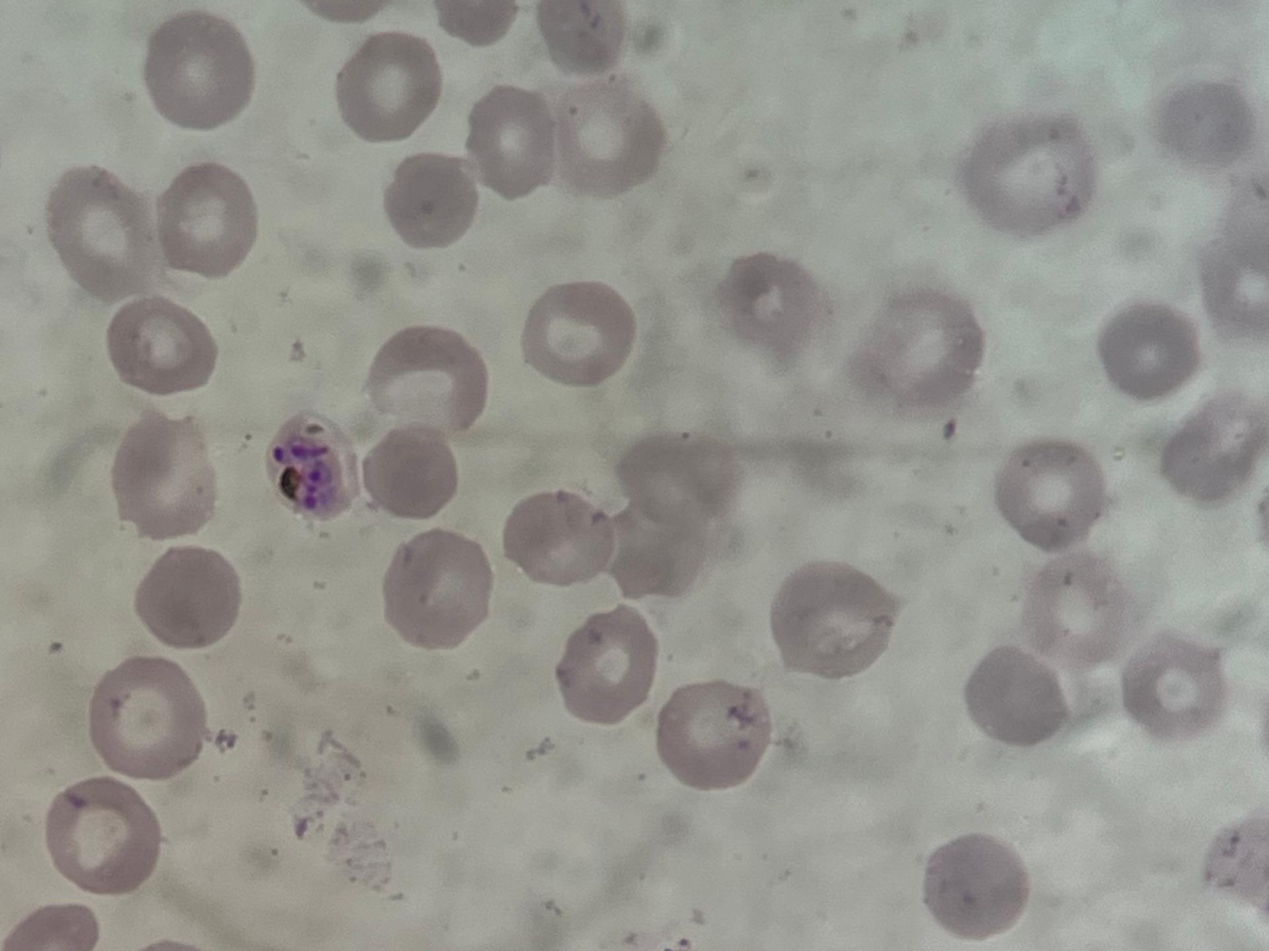Infected: (266, 408, 356, 521)
Uninfected: (959, 112, 1094, 235), (770, 560, 900, 679), (857, 288, 983, 409), (88, 656, 208, 779), (46, 169, 153, 304), (46, 778, 163, 895), (109, 412, 218, 536), (364, 326, 487, 435), (382, 531, 494, 649), (550, 81, 663, 196), (1017, 552, 1130, 666), (145, 14, 254, 132), (714, 252, 826, 366), (334, 30, 443, 144), (656, 681, 769, 790), (1160, 389, 1267, 502), (521, 280, 636, 385), (993, 441, 1105, 548), (554, 607, 656, 724), (158, 162, 256, 280), (132, 546, 241, 652), (922, 834, 1030, 940), (104, 295, 216, 397), (1120, 634, 1226, 740), (603, 500, 712, 601), (502, 489, 615, 586), (962, 645, 1068, 747), (1096, 302, 1201, 402), (464, 86, 557, 196), (359, 425, 463, 519), (383, 152, 476, 250), (1194, 227, 1268, 335), (537, 1, 625, 75)
